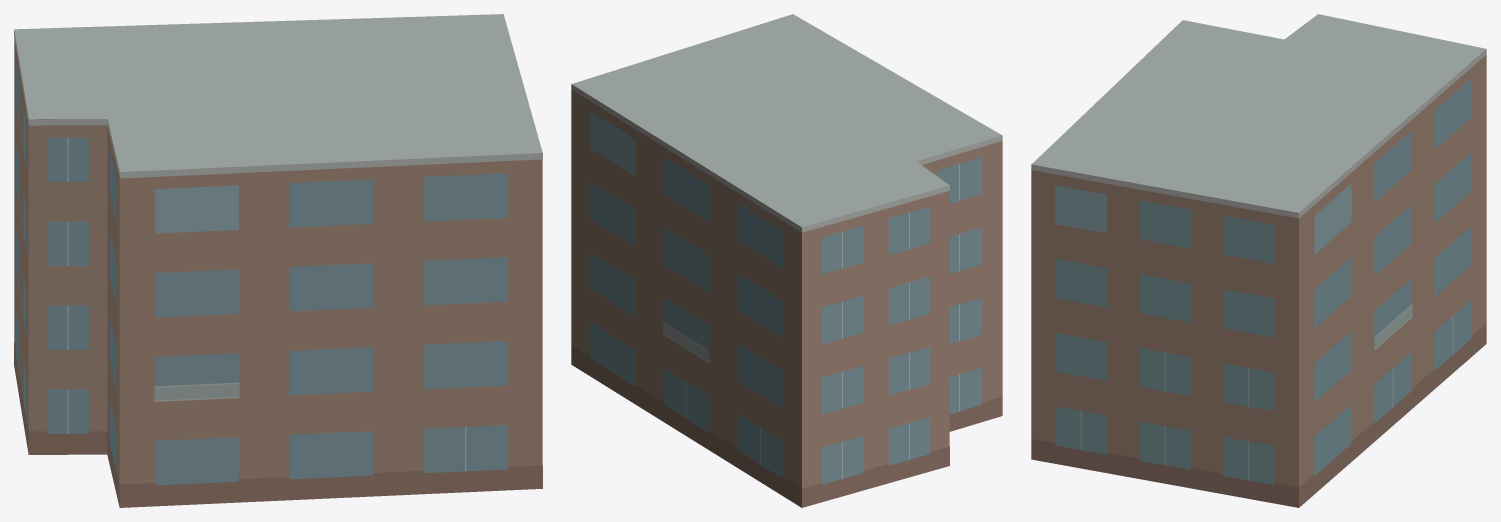
Rendered from survey-upis-32634250.glb.
3 views of the same model, side by side, from view 1: azimuth 30°, elevation 25°; view 2: azimuth 150°, elevation 25°; view 3: azimuth 270°, elevation 25° (orthographic). The views are drawn at different scales.
Parts seen in each view (by area): view 1: survey-upis-32634250.tmp; view 2: survey-upis-32634250.tmp; view 3: survey-upis-32634250.tmp.
Part boxes in pixels (x1,y1,x2,y2): survey-upis-32634250.tmp: [14, 14, 542, 507]; survey-upis-32634250.tmp: [571, 14, 1002, 507]; survey-upis-32634250.tmp: [1031, 14, 1486, 507].
Size of the model in its own units: 18.52 by 12.8 by 17.91.
